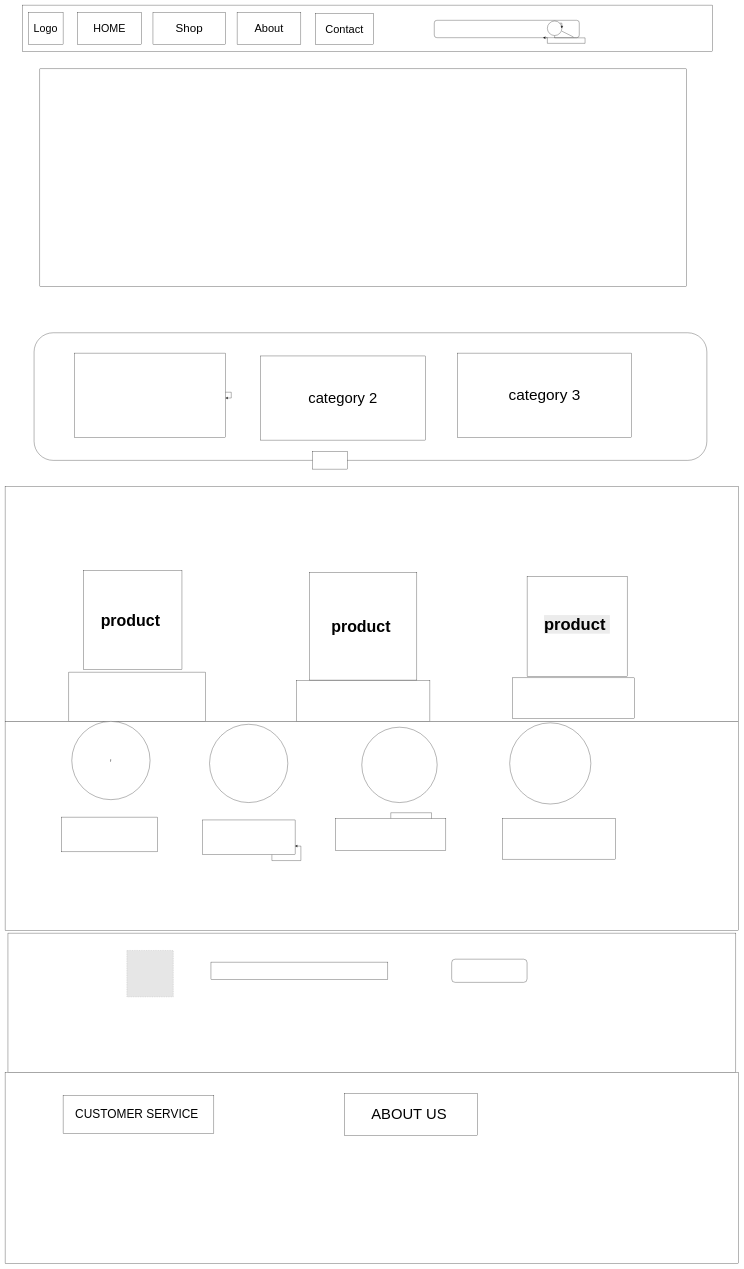
Image size: 744x1269. Some labels were removed from this diagram. Grey dashed boxes stand in for pictures. Each missing label, with the box of its shape:
category 1: (74, 353, 225, 437)
enter your email: (211, 962, 388, 979)
Hero section: (40, 69, 687, 286)
Search: (434, 20, 579, 38)
SUBSCRIBE: (451, 959, 527, 982)
